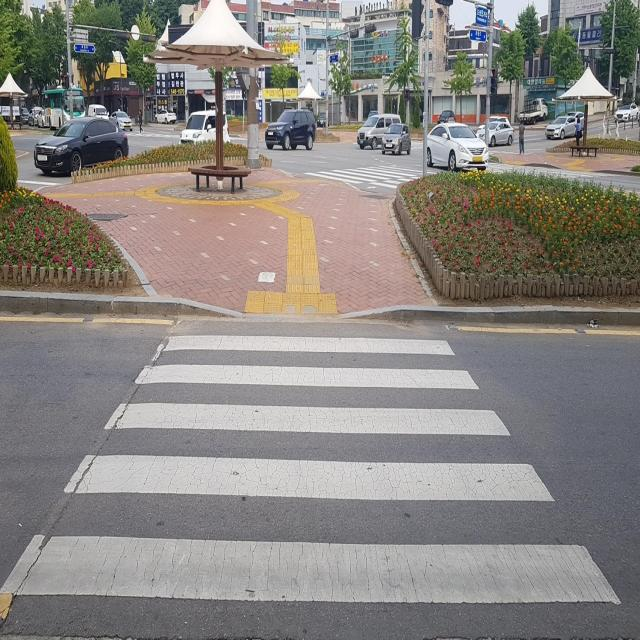횡단보도: (1, 330, 623, 608), (302, 162, 438, 190)
